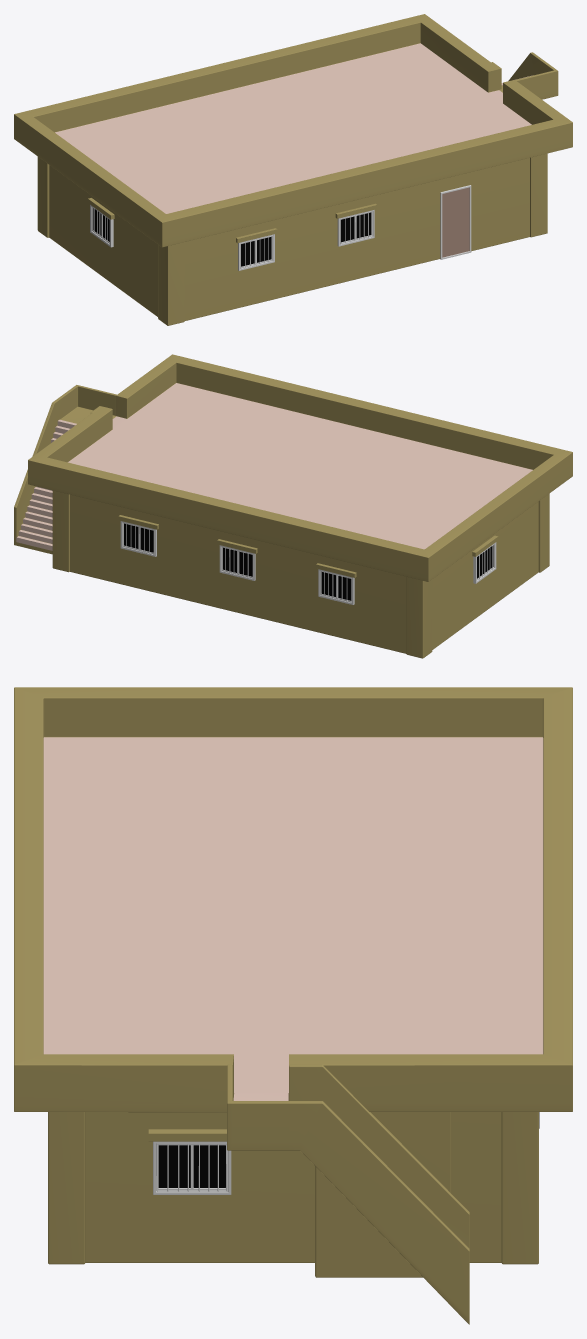
Rendered from barrack_small2_high.fbx.
The picture shows the model from 3 angles, top to bottom: view 1: azimuth 30°, elevation 25°; view 2: azimuth 150°, elevation 25°; view 3: azimuth 270°, elevation 25°; orthographic projection. The views are drawn at different scales.
Visible parts, largest first — view 1: polySurface20; view 2: polySurface20; view 3: polySurface20.
Boxes of the visible parts, <box> form: polySurface20: <box>14,14,572,325</box>; polySurface20: <box>14,354,572,658</box>; polySurface20: <box>14,687,572,1324</box>.
Size of the model in its own units: 1322 by 328 by 750.
